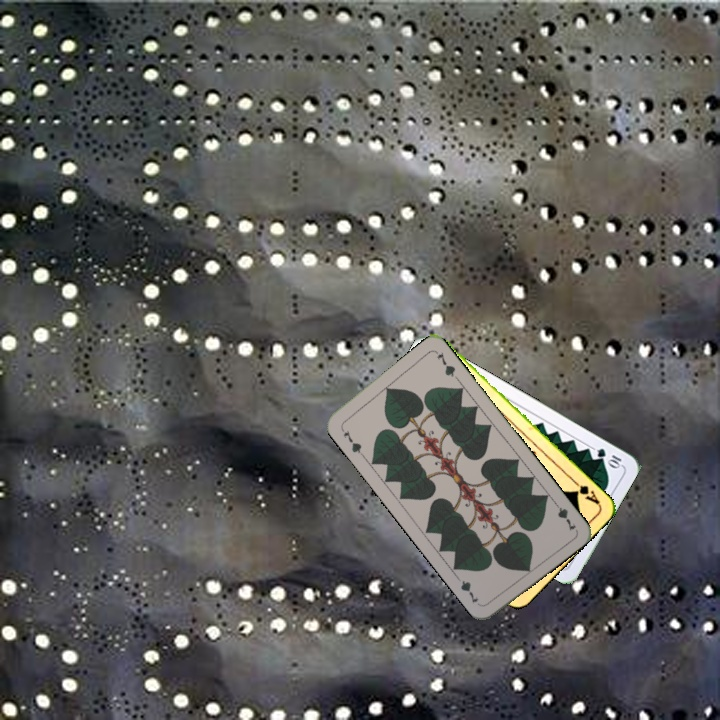G10: (592, 444, 624, 471)
G7: (549, 497, 579, 534), (337, 423, 366, 458)
GA: (569, 476, 602, 507)
